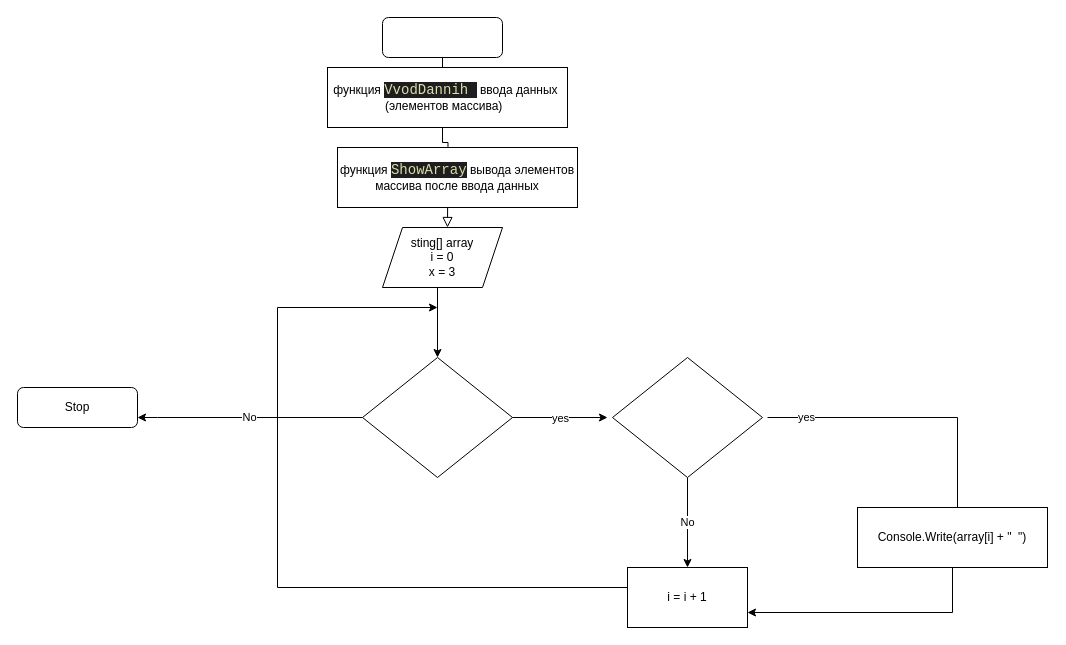
Image size: 1066x645. Some labels were removed from this diagram. The centre of each missing label's shape, as x and y in pixels:
"array.[i].Lenght <= x" goes at [687,417].
"i < array.Lenght" goes at [437,417].
"Start" goes at [442,37].
